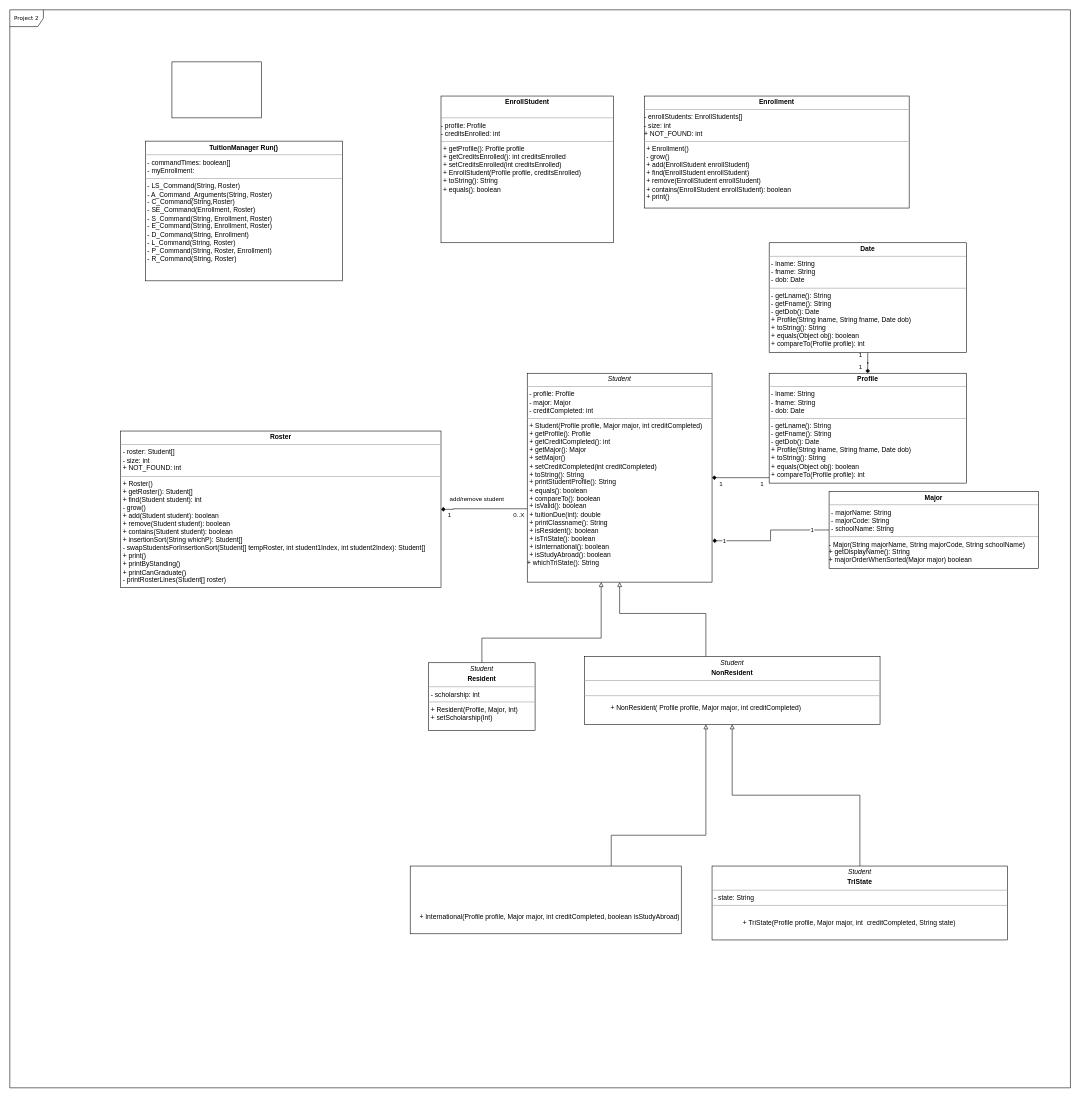
Some shapes in this 1080 by 1098 pixel diagram are drawn without their labels. Each missing label, with the centre of its shape:
RunProject2 + main(Type): String[] args: [216,89]
Student International - isStudyAbroad: boolean: [545,899]
